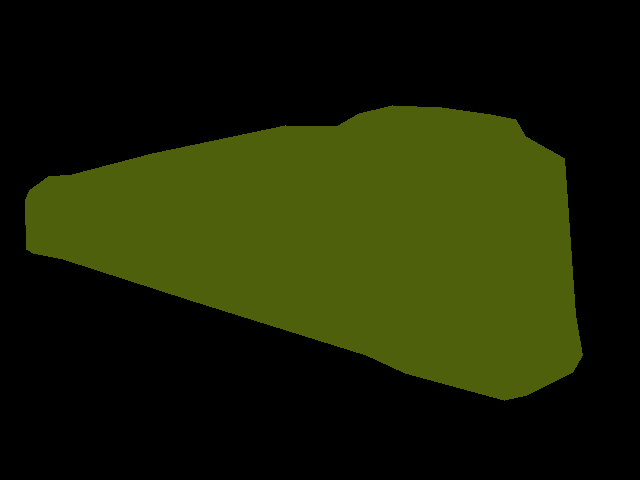Train: (25, 105, 582, 400)
